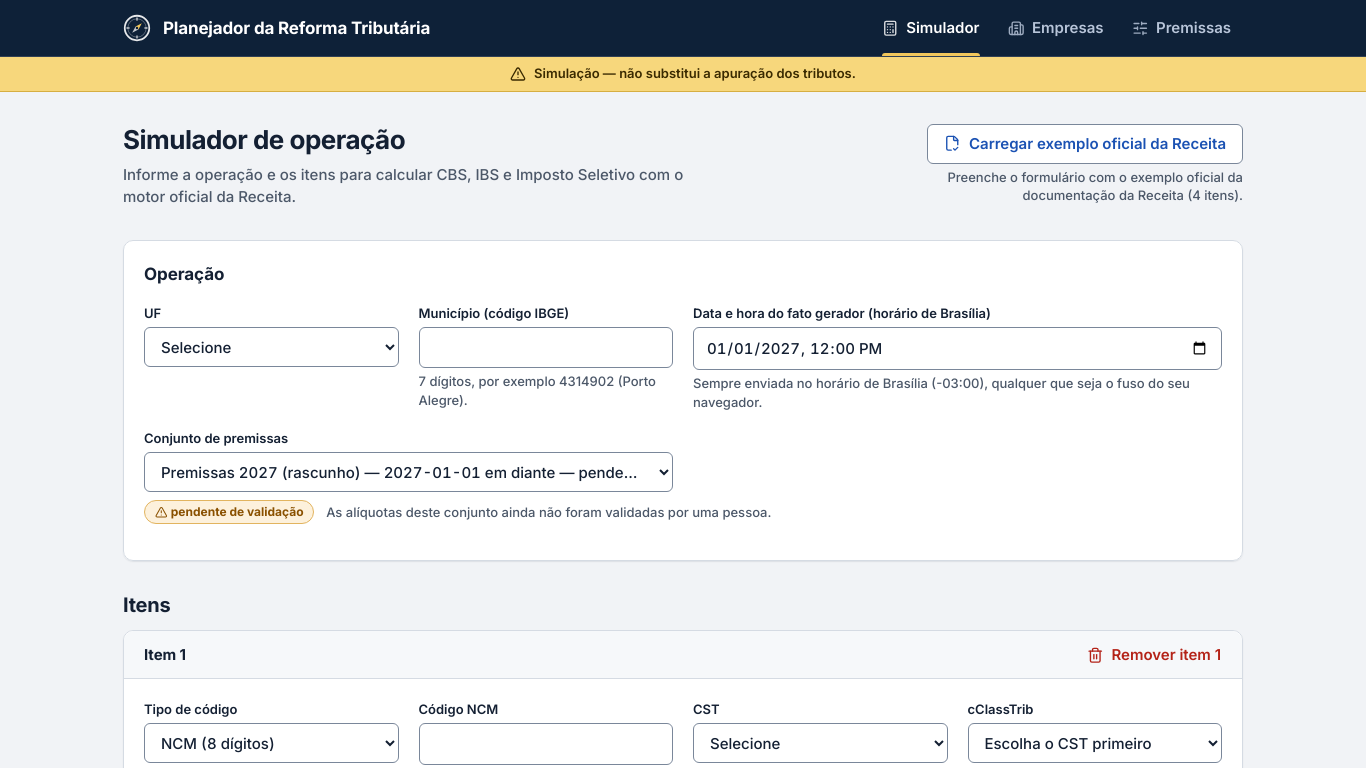
Scenario: Simulador: salvar como cenário › se o formulário mudou depois de simular, salva a operação SIMULADA e avisa isso no painel
Click the button "Carregar exemplo oficial da Receita" at (1085, 144), box [928,124,1243,164]
(page scrolled)
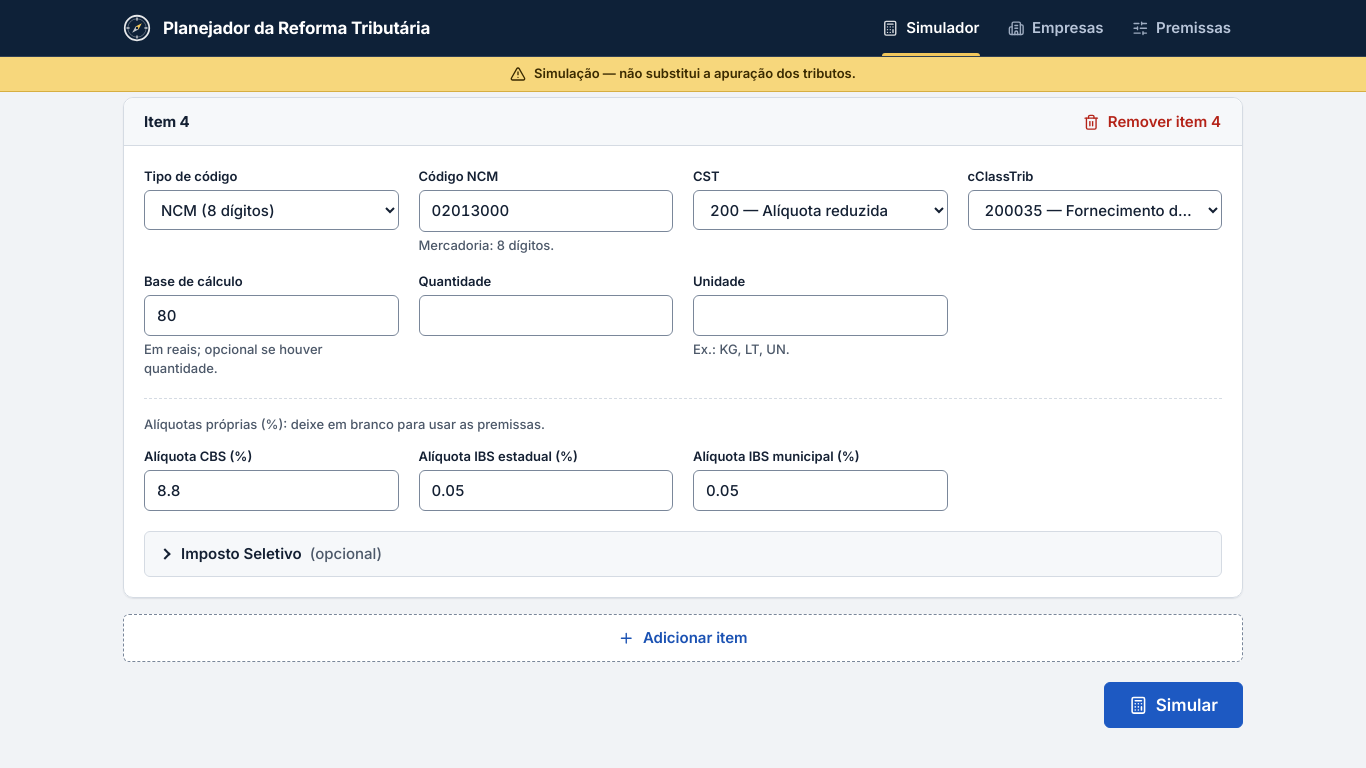
Expected: the element "Item 4" is shown, [123,97,1243,598]
Click the button "Simular" at (1174, 705), box [1104,682,1243,728]
(page scrolled)
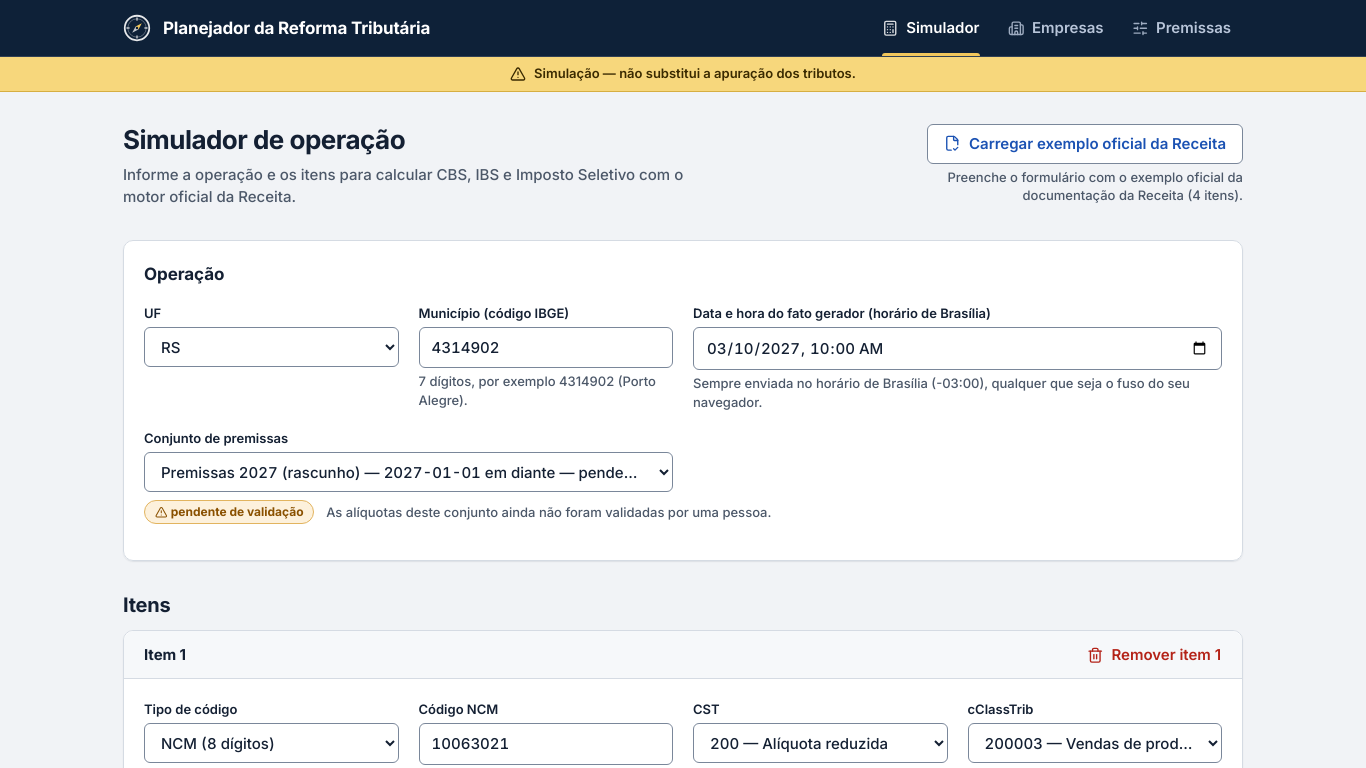
Replace the text in the field labelled "Município (código IBGE)" with "3550308" at (546, 348), box [418,327,673,368]
Select "SP" in the dropdown labelled "UF" at (271, 347), box [144,327,398,367]
(page scrolled)
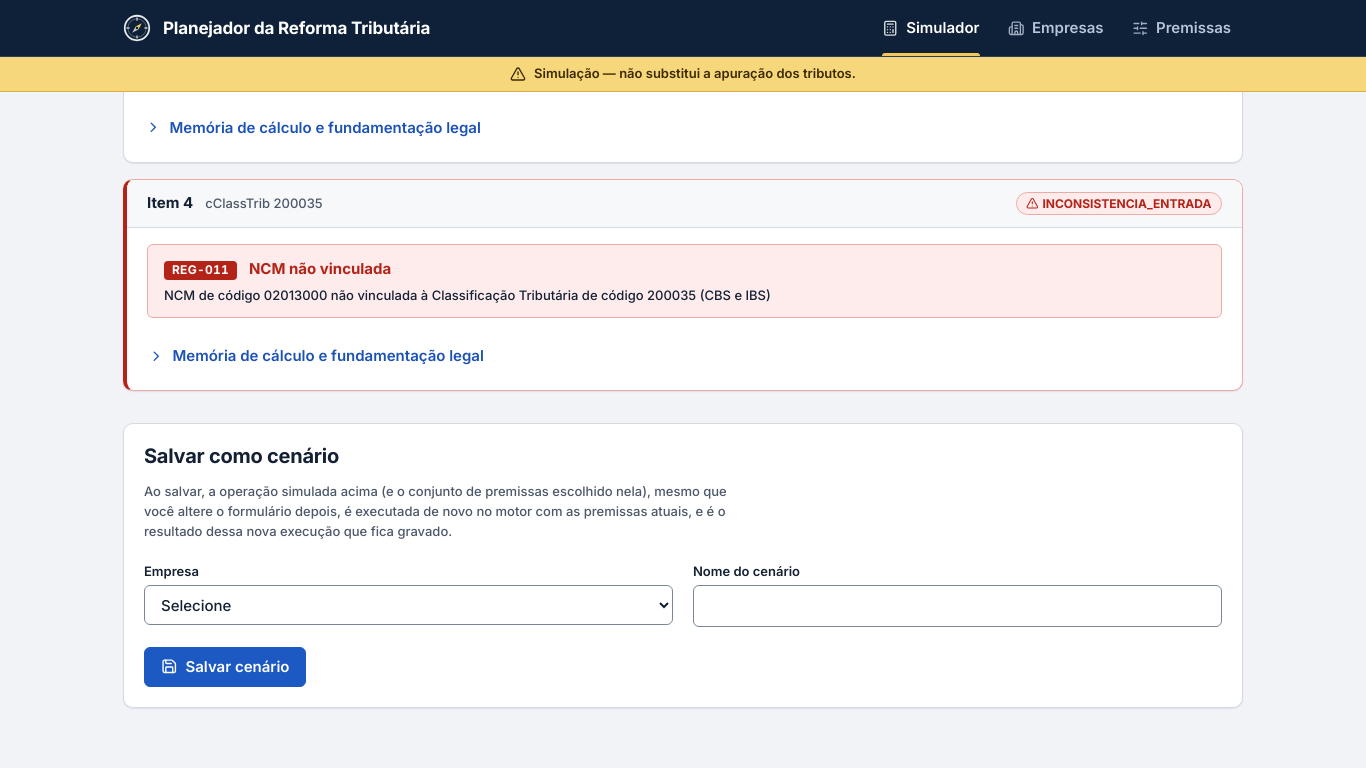
Expected: the element "Salvar como cenário" does not show "Salvar não recalcula nada", [123,423,1243,708]
Expected: the element "Salvar como cenário" shows "mesmo que você altere o formulário", [144,483,727,539]
Expected: the element "Salvar como cenário" shows "é executada de novo no motor com as premissas atuais", [144,483,727,539]
Select "Comercial Exemplo Ltda — 11.222.333/0001-81" in the dropdown labelled "Empresa" at (408, 605), box [144,585,673,625]
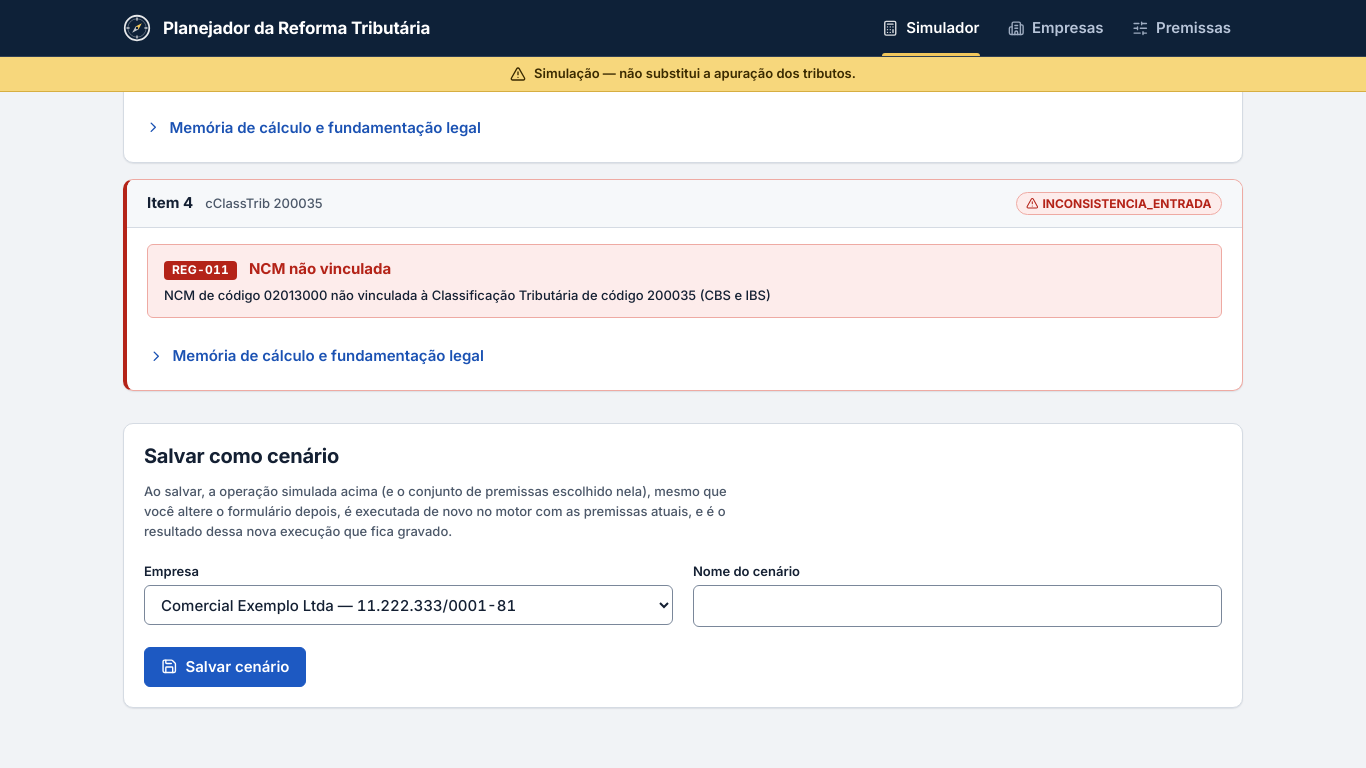
Type "Cenário editado depois" into the field labelled "Nome do cenário" at (958, 606), box [693,585,1222,627]
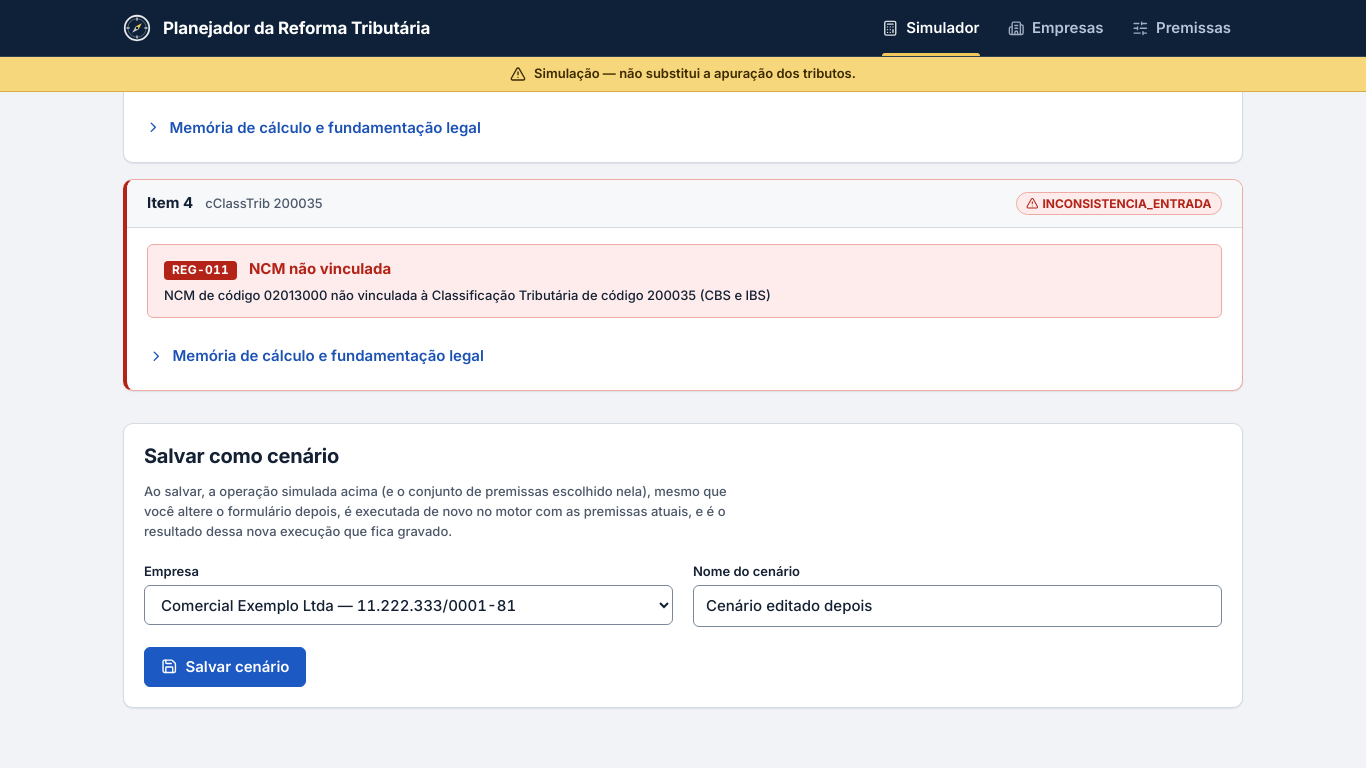
Click the button "Salvar cenário" at (225, 667), box [144,647,306,687]
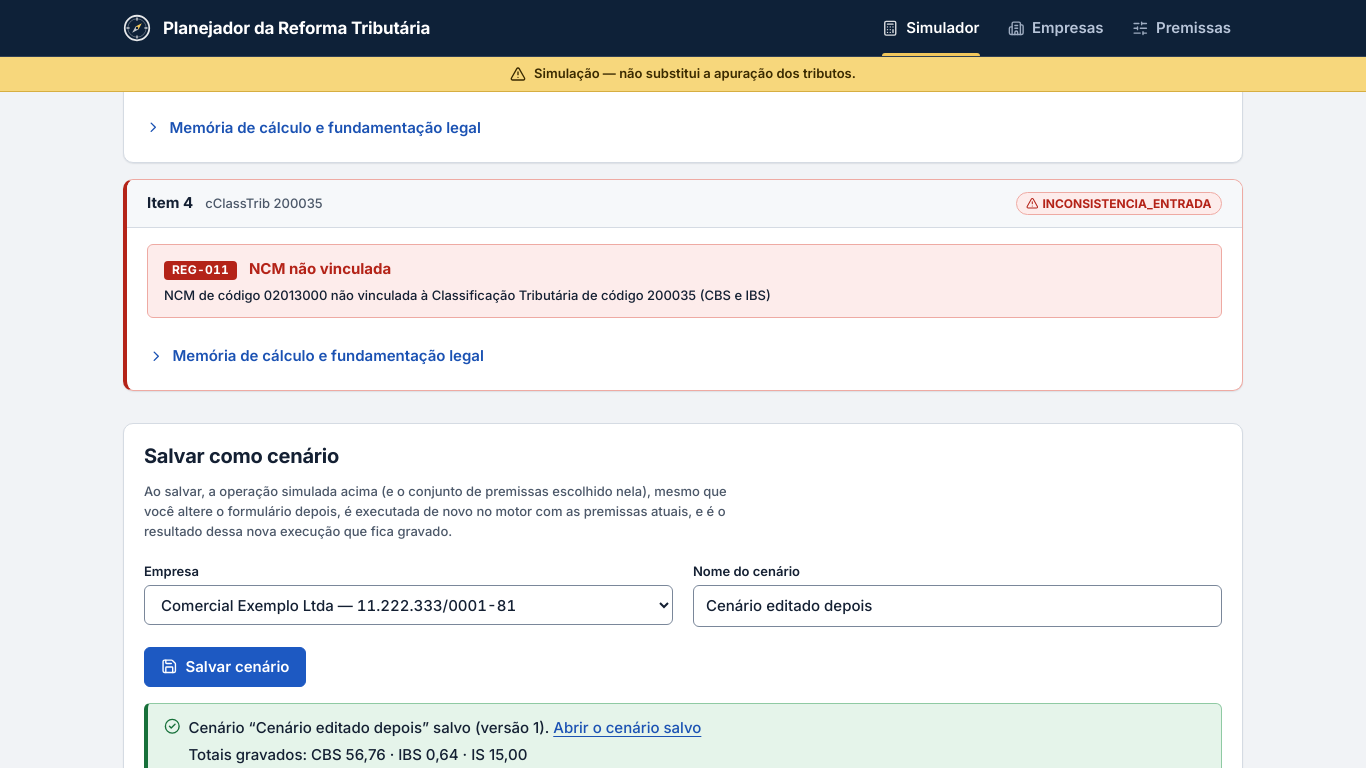
Expected: the link "Abrir o cenário salvo" is shown, [553,718,701,737]
